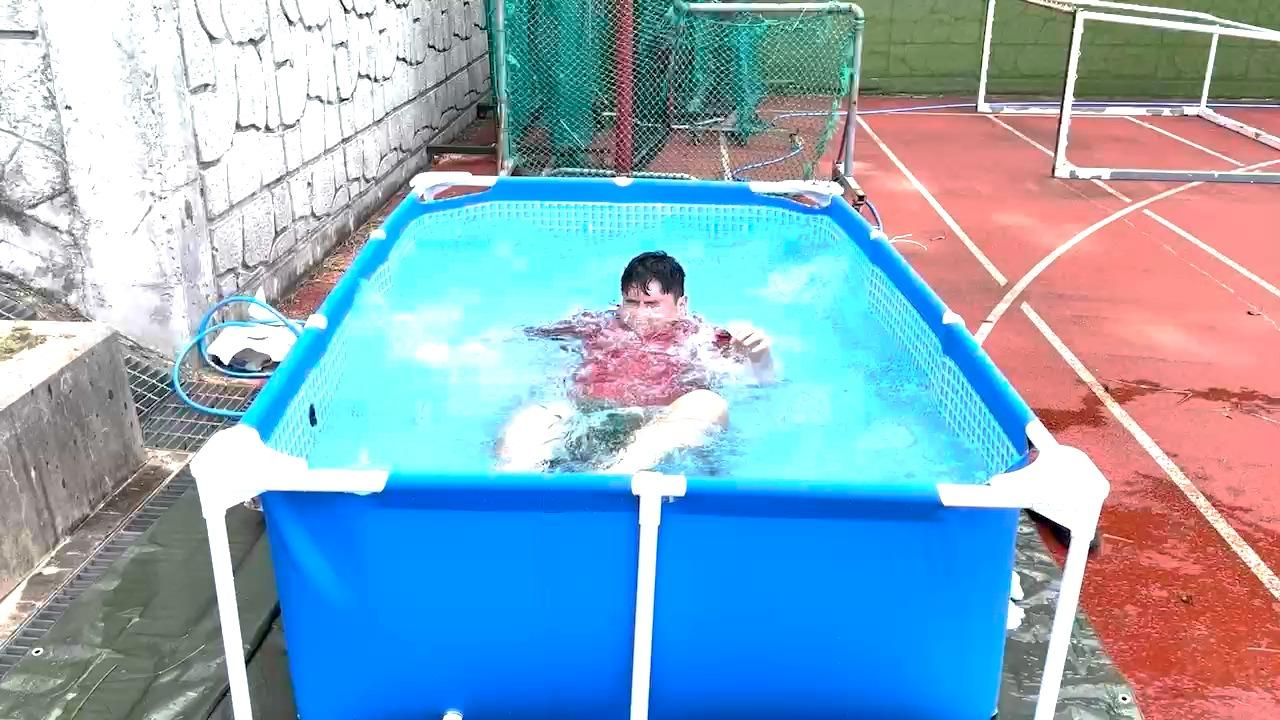Drowning: (471, 231, 781, 473)
